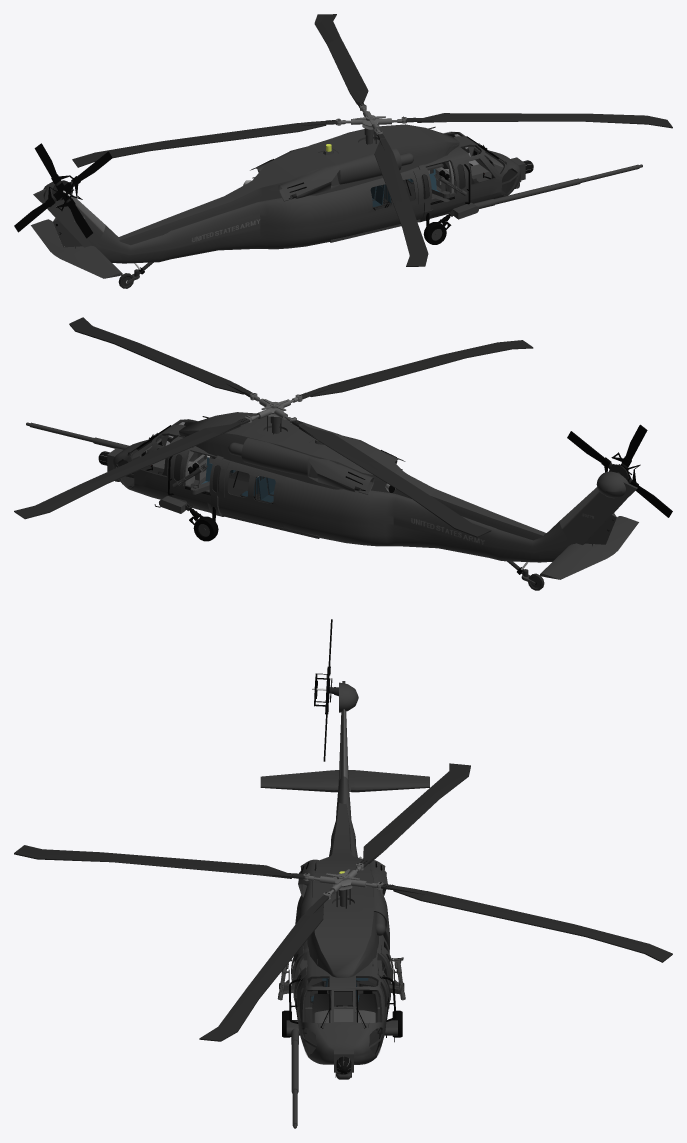
The model's file is a400dmh602.glb.
3 views of the same model, one above another, from view 1: azimuth 30°, elevation 25°; view 2: azimuth 150°, elevation 25°; view 3: azimuth 270°, elevation 25° (orthographic). The views are drawn at different scales.
Parts seen in each view (by area): view 1: Plane.001, Cube.001, Circle.001, 円柱.005; view 2: Plane.001, Cube.001, Circle.001, 円柱.005; view 3: Plane.001, Cube.001, 円柱.005.
Part boxes in pixels (x1=…): Plane.001: x1=31, y1=124, x2=520, y2=288; Cube.001: x1=72, y1=14, x2=672, y2=266; Circle.001: x1=14, y1=143, x2=112, y2=238; 円柱.005: x1=469, y1=157, x2=580, y2=208; Plane.001: x1=112, y1=412, x2=638, y2=590; Cube.001: x1=14, y1=317, x2=533, y2=537; Circle.001: x1=567, y1=424, x2=672, y2=517; 円柱.005: x1=93, y1=437, x2=133, y2=481; Plane.001: x1=260, y1=681, x2=429, y2=1064; Cube.001: x1=14, y1=763, x2=672, y2=1041; 円柱.005: x1=291, y1=1026, x2=353, y2=1093.
Size of the model in its own units: 17.88 by 4.94 by 14.35.
28 materials, 2 textured.
